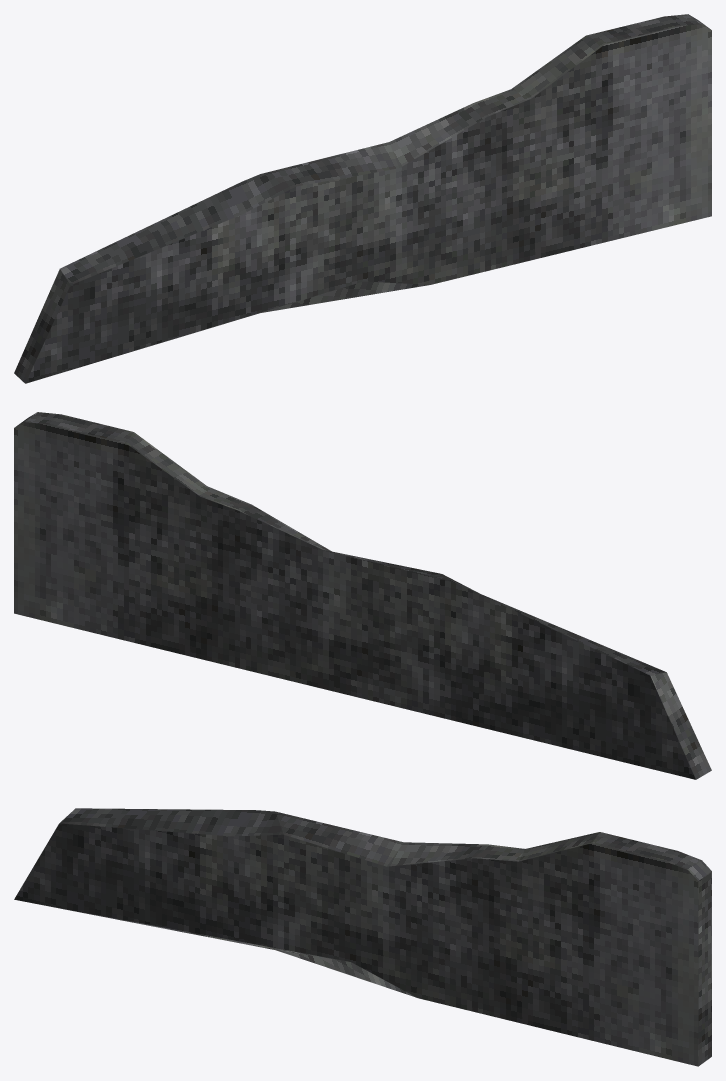
Rendered from plackard_slab_broken_alt.glb.
The picture shows the model from 3 angles, top to bottom: view 1: azimuth 30°, elevation 25°; view 2: azimuth 150°, elevation 25°; view 3: azimuth 330°, elevation 25°; orthographic projection.
Visible parts, largest first — view 1: plackard_slab_broken_alt; view 2: plackard_slab_broken_alt; view 3: plackard_slab_broken_alt.
Part boxes in pixels (bbox=[...]): plackard_slab_broken_alt: bbox=[14, 14, 711, 383]; plackard_slab_broken_alt: bbox=[14, 412, 711, 779]; plackard_slab_broken_alt: bbox=[14, 808, 711, 1066].
Bounding box in the file's own units: 3.63 × 1 × 0.125.
Materials: 1 (1 with a texture image).
